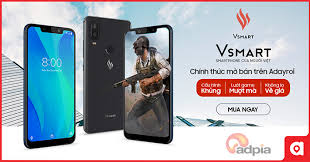vsmart: (20, 20, 78, 150), (81, 12, 130, 133)
